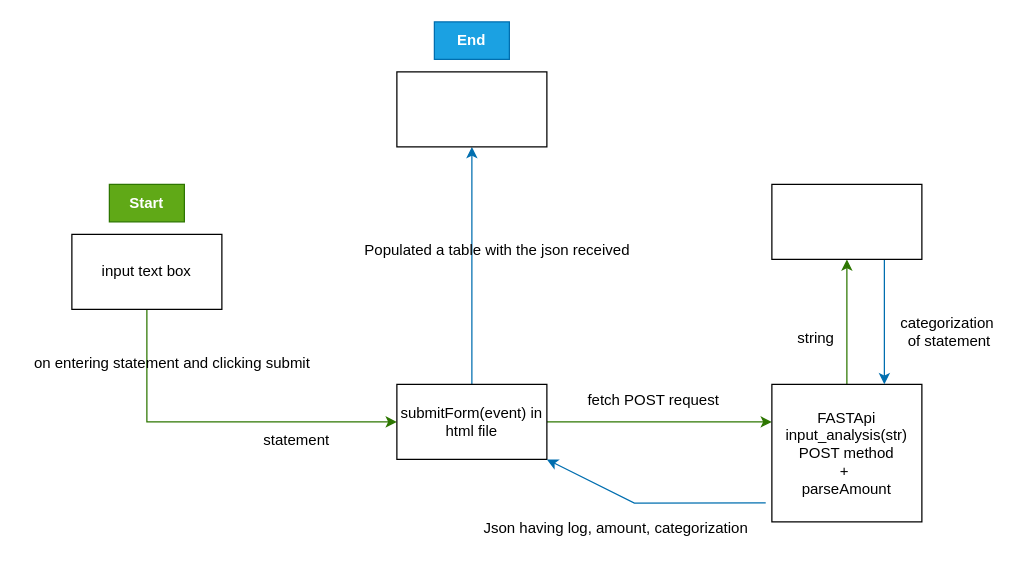
Some shapes in this 1030 by 569 pixel diagram are drawn without their labels. The box of each missing label's shape, as (x1, y1, x2, y2) in pixels:
model file: (771, 183, 922, 259)
responseArea: (396, 71, 547, 147)
